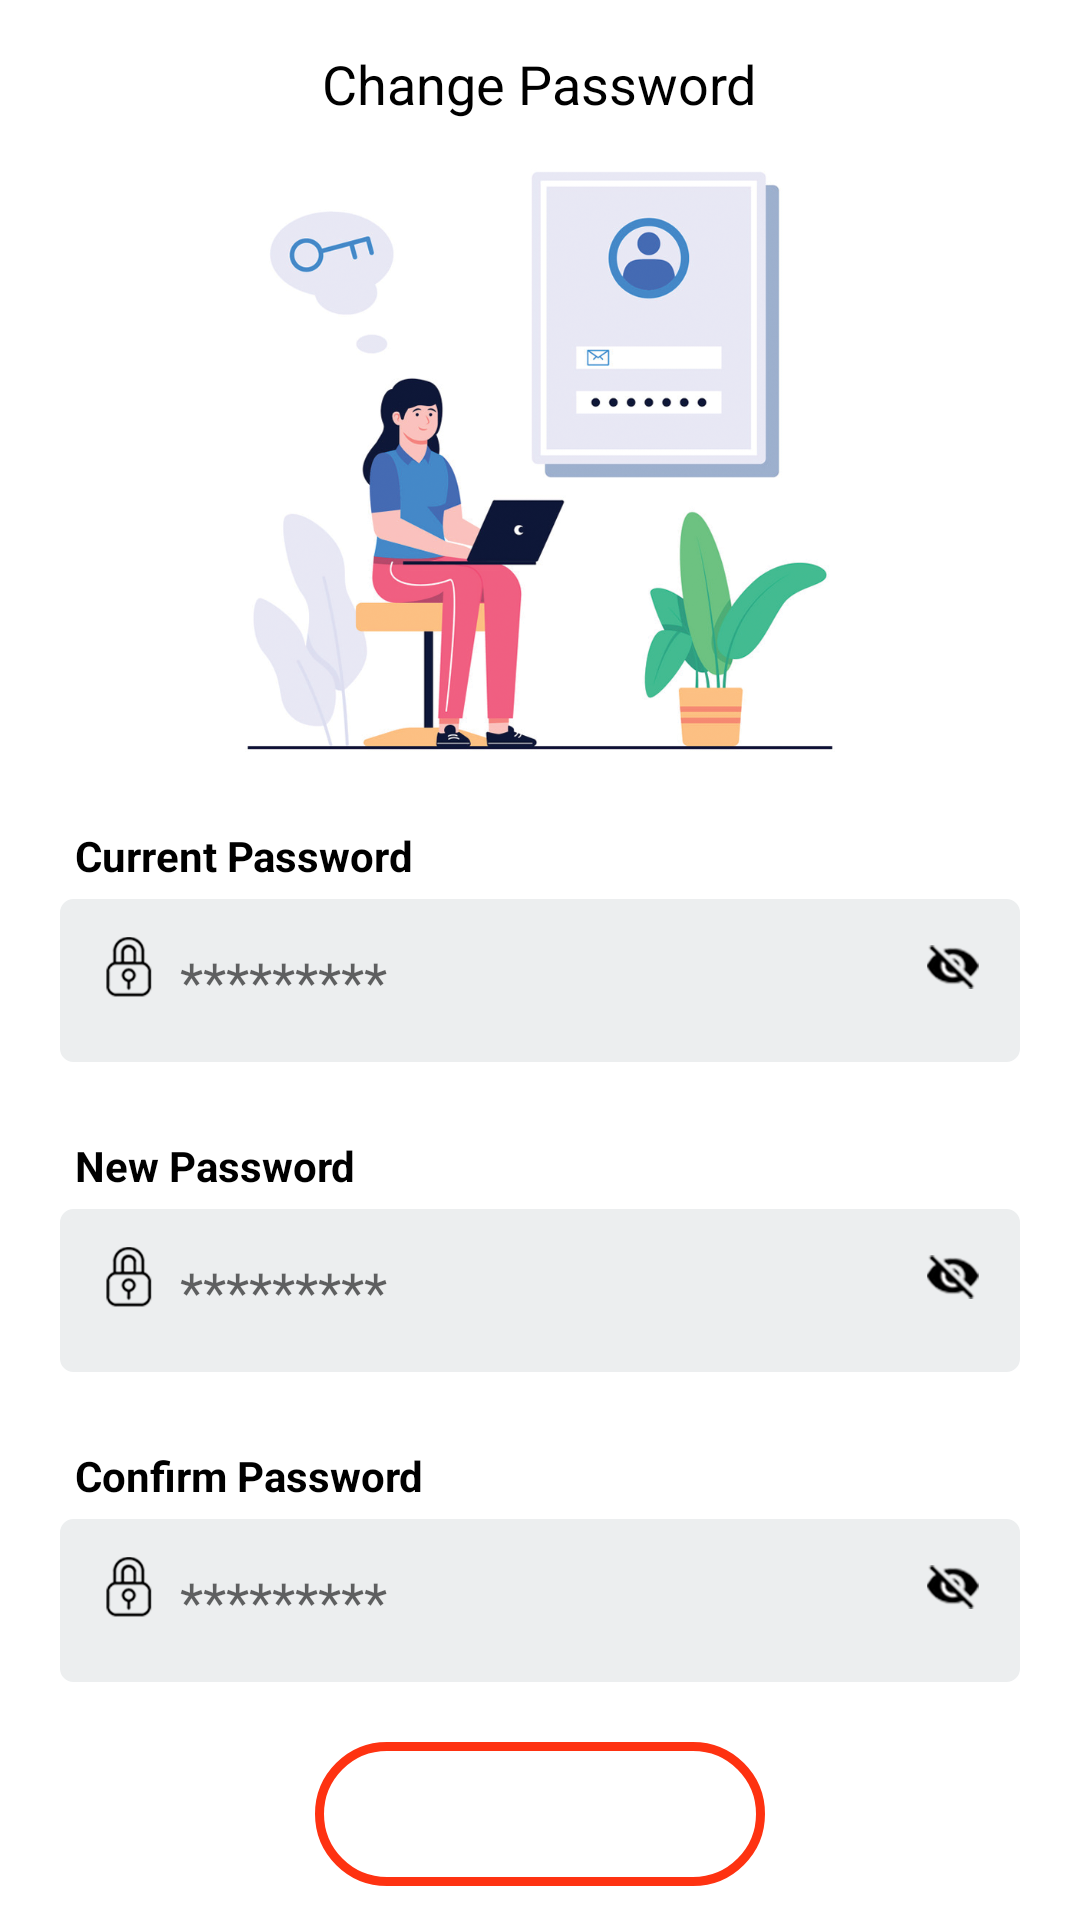

Screen size 1080 x 1920. Icon name, then its center in pixels as [x,y]:
eye: [953,967], [953,1277], [953,1587]
lock: [129,967], [129,1277], [129,1587]
